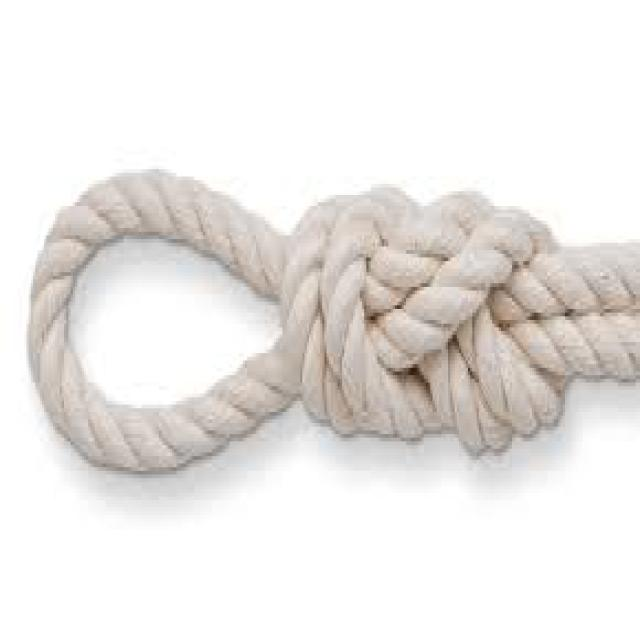Rope: (22, 158, 640, 502)
